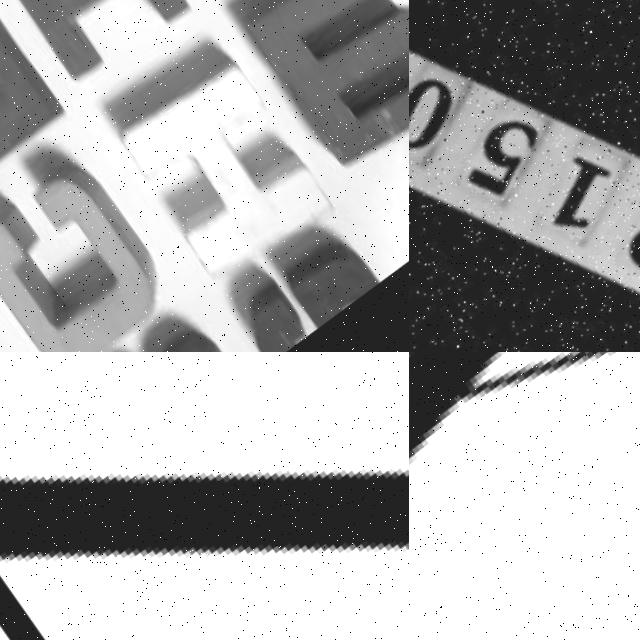0: (409, 43, 495, 189)
1: (508, 132, 640, 274)
2: (579, 161, 640, 320)
5: (427, 85, 579, 236)
C: (0, 161, 175, 352)
D: (0, 0, 61, 206)
H: (99, 32, 343, 299)
I: (0, 0, 191, 93)
M: (234, 0, 409, 187)
X: (409, 352, 640, 640)
Z: (0, 352, 409, 640)
